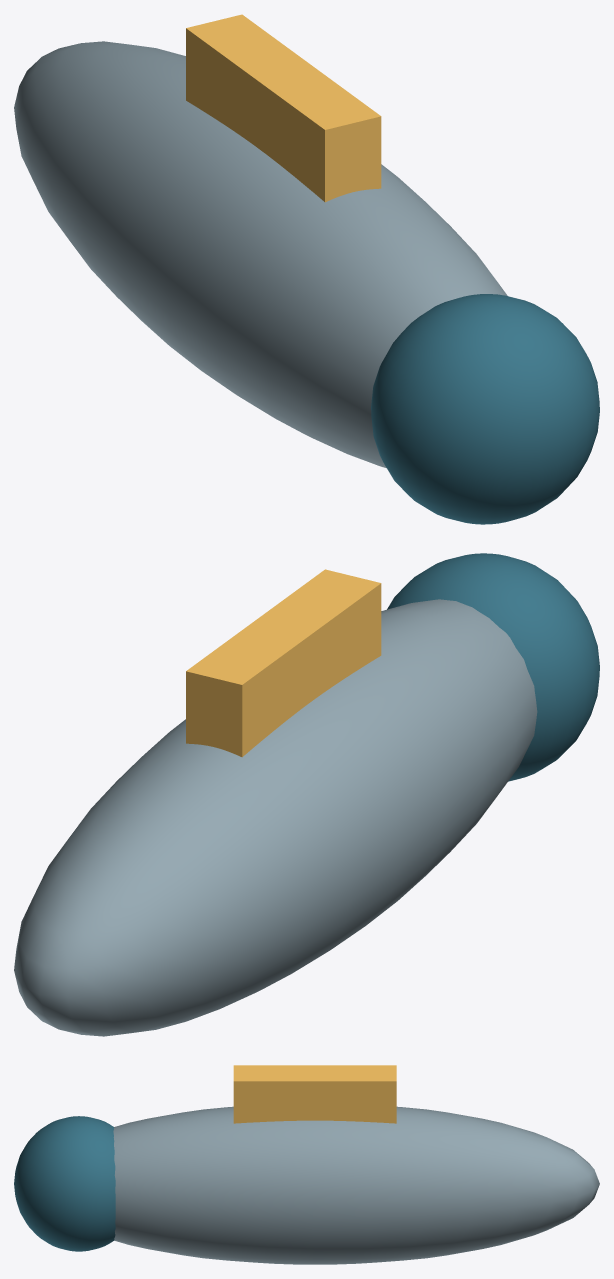
The model's file is sensor.glb.
The picture shows the model from 3 angles, top to bottom: view 1: azimuth 30°, elevation 25°; view 2: azimuth 150°, elevation 25°; view 3: azimuth 270°, elevation 25°; orthographic projection. The views are drawn at different scales.
Visible parts, largest first — view 1: 传感器吊舱, 光学窗口, 连接支架; view 2: 传感器吊舱, 连接支架, 光学窗口; view 3: 传感器吊舱, 光学窗口, 连接支架.
Part boxes in pixels (x1,y1,x2,y2): 传感器吊舱: (14,41,507,467); 光学窗口: (371,294,599,524); 连接支架: (186,14,381,202); 传感器吊舱: (14,599,537,1036); 连接支架: (186,569,381,757); 光学窗口: (387,553,599,781); 传感器吊舱: (113,1106,599,1264); 光学窗口: (14,1116,115,1251); 连接支架: (233,1065,396,1123).
Bounding box in the file's own units: 0.58 × 0.75 × 2.16.
